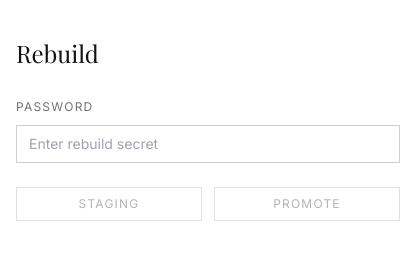
Test: RebuildPage › shows error when res.ok but data.triggered is missing
In the password field labelled "Password": (208, 144) [16,125,400,163], type "mysecret"
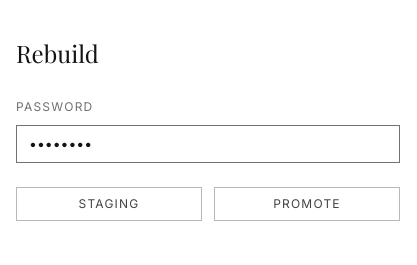
Click the button "Staging": (109, 204) [16,187,202,221]
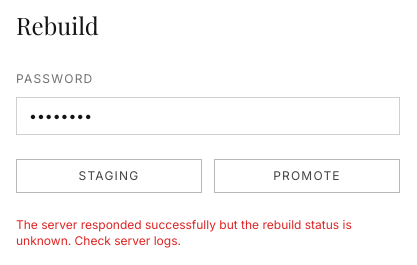
Now the text "rebuild status is unknown" is shown, box [16,217,352,248]
